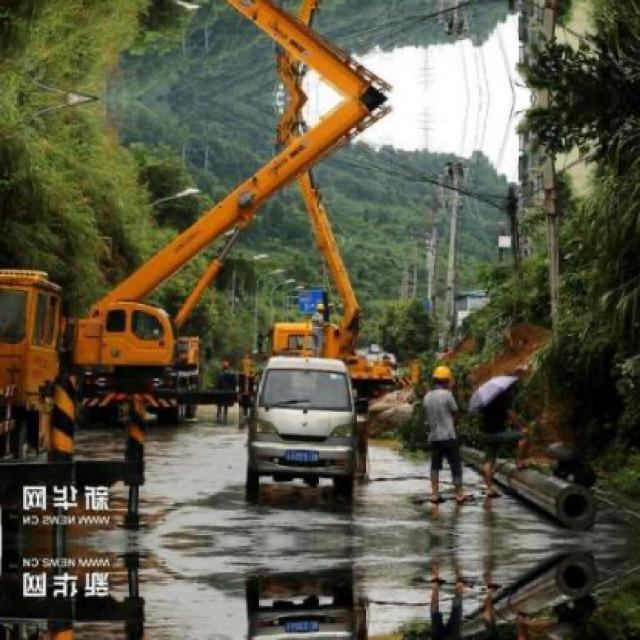helmet: (431, 362, 454, 392), (314, 302, 324, 313)
